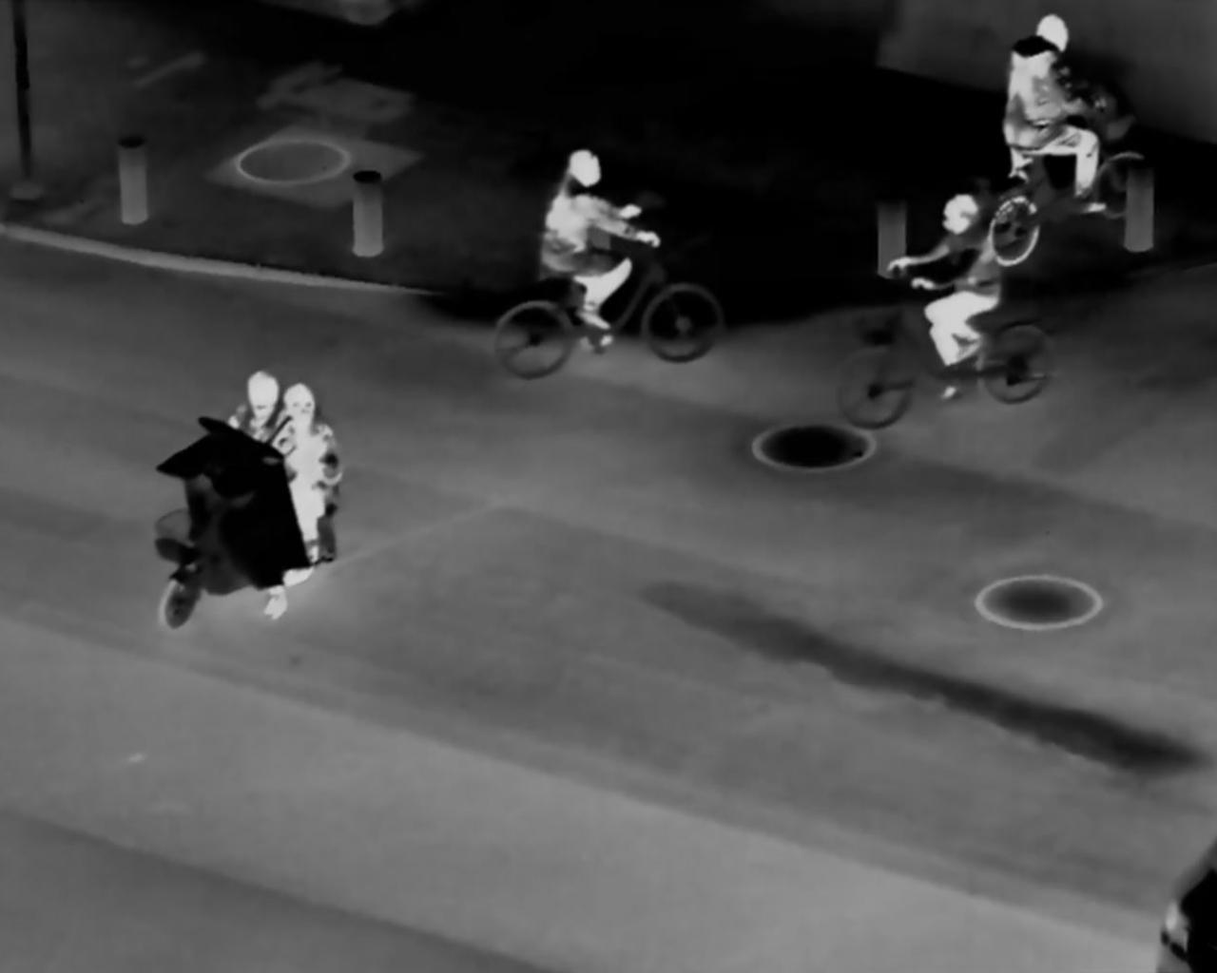person: (534, 140, 649, 363), (991, 9, 1107, 214), (896, 187, 1006, 391), (224, 368, 293, 621), (271, 377, 338, 585)
